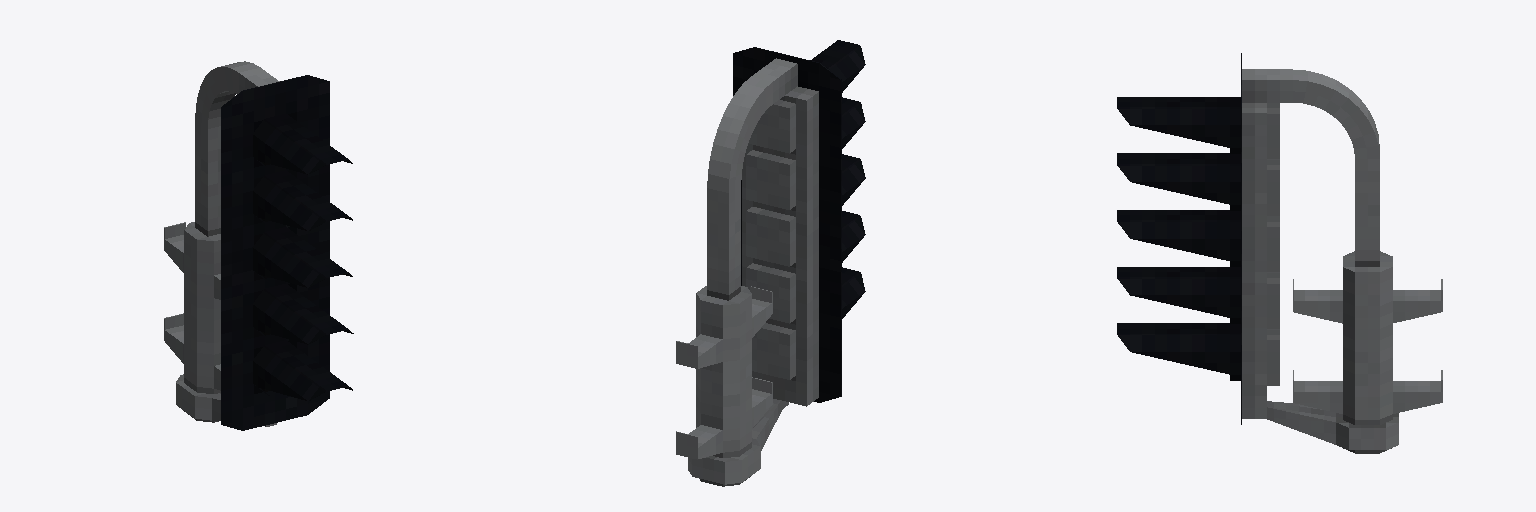
The picture shows the model from 3 angles: view 1: azimuth 30°, elevation 25°; view 2: azimuth 150°, elevation 25°; view 3: azimuth 270°, elevation 25°; orthographic projection.
Parts seen in each view (by area): view 1: base_Cube.002; view 2: base_Cube.002; view 3: base_Cube.002.
Boxes of the visible parts, box(x1,y1,x2,y2) form: base_Cube.002: box(164, 61, 353, 430); base_Cube.002: box(676, 40, 865, 486); base_Cube.002: box(1117, 53, 1442, 453).
Bounding box in the file's own units: 0.625 × 2.06 × 1.62.
Materials: 1 (1 with a texture image).